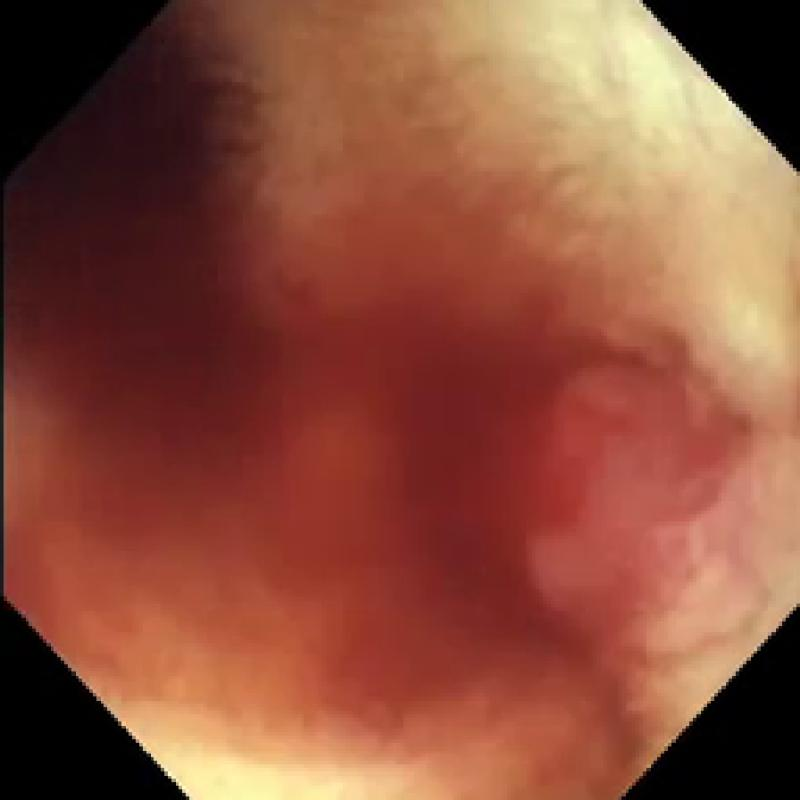bleeding: (0, 50, 704, 686)
